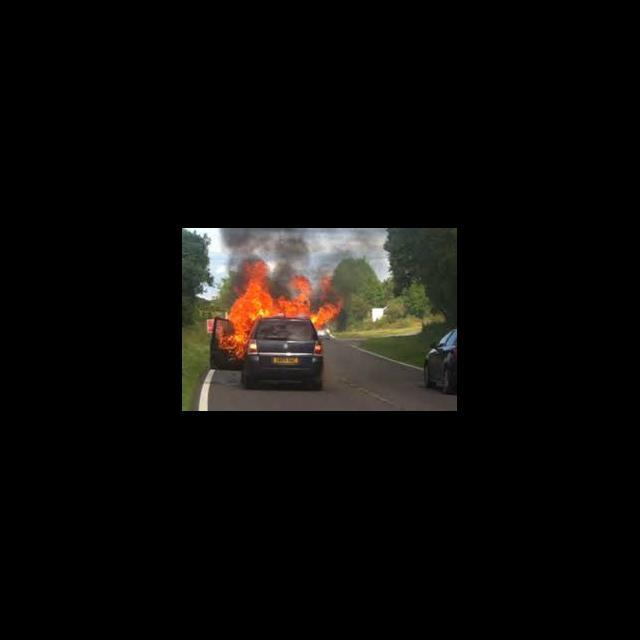Fire: (222, 300, 248, 356), (242, 296, 291, 317), (242, 259, 272, 293), (312, 301, 344, 332), (294, 274, 314, 318), (319, 272, 332, 295)
Smoke: (224, 228, 380, 260), (274, 261, 292, 294)
